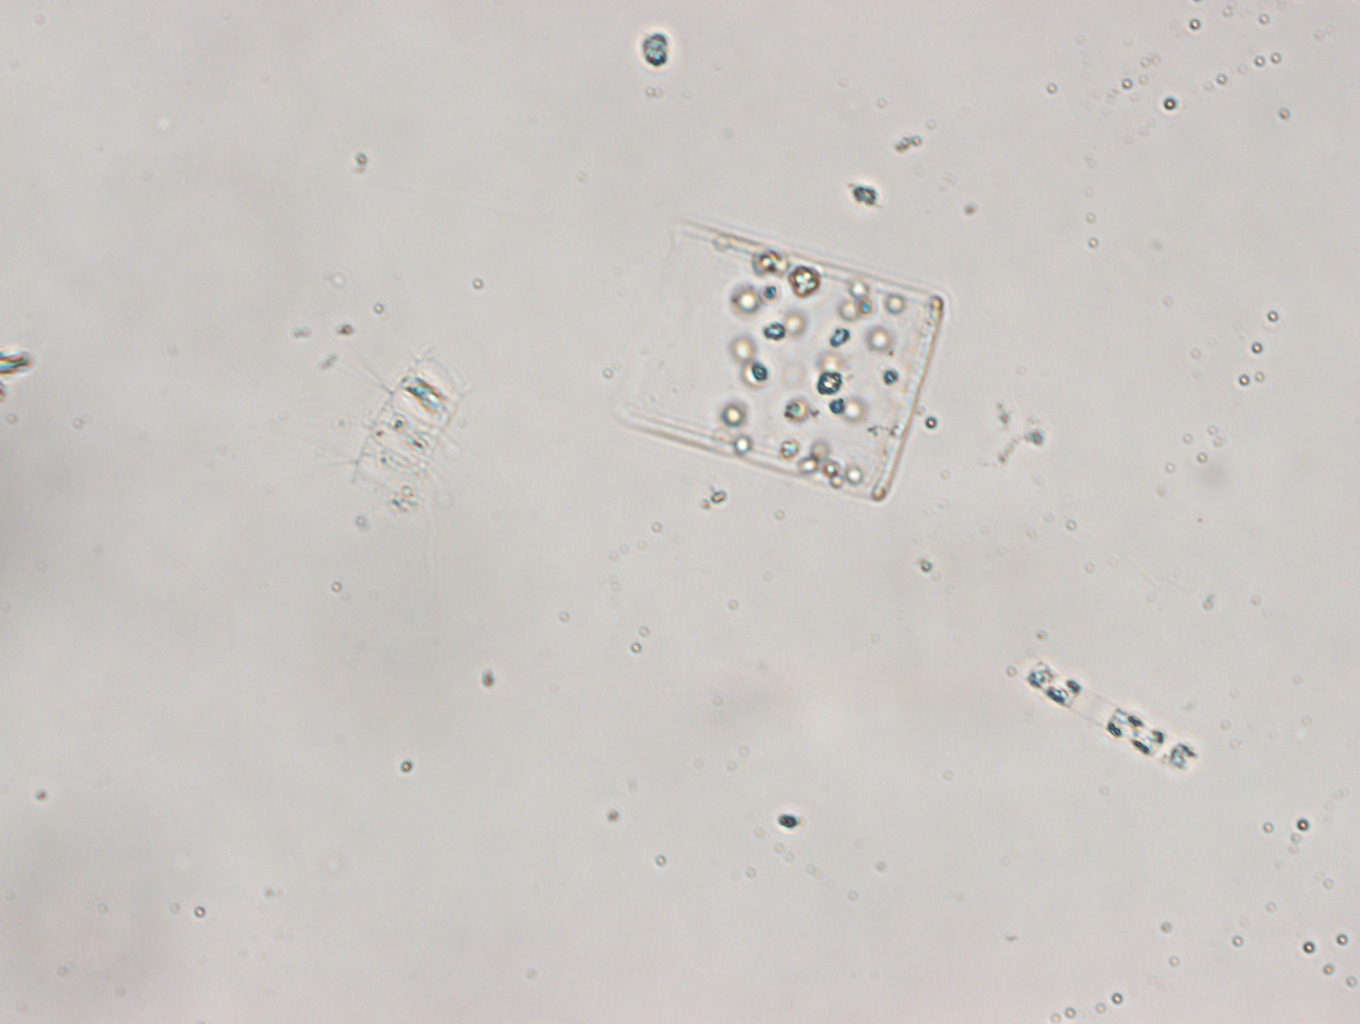chaetoceros: (323, 343, 486, 507)
guinardia flaccida: (625, 218, 945, 507)
skeletonema: (1015, 651, 1202, 774)
